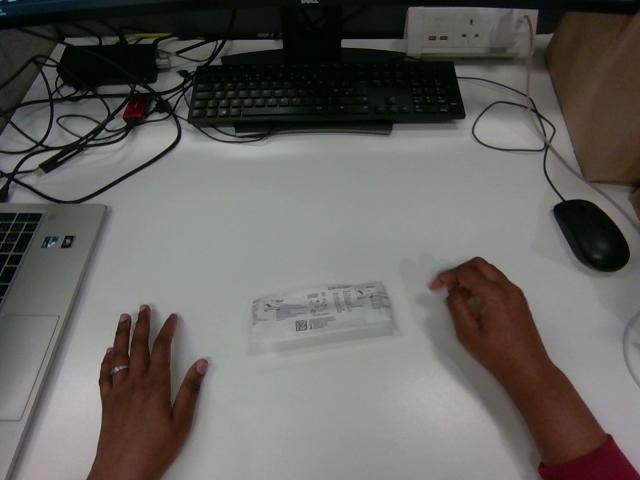syringe: (251, 282, 394, 344)
